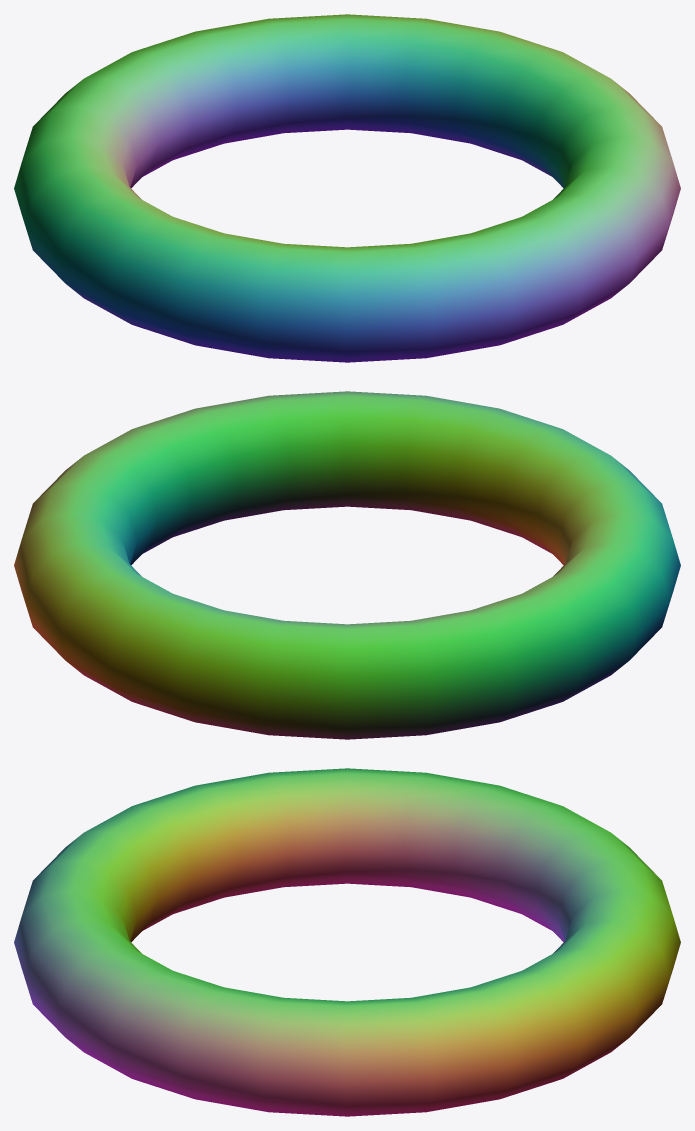
Rendered from zeometry-basic-shapes-torus_v1.glb.
3 views of the same model, one above another, from view 1: azimuth 30°, elevation 25°; view 2: azimuth 150°, elevation 25°; view 3: azimuth 270°, elevation 25° (orthographic).
Parts seen in each view (by area): view 1: Torus.001; view 2: Torus.001; view 3: Torus.001.
Part boxes in pixels (box(x1,y1,x2,y2)): Torus.001: box(14, 14, 680, 362); Torus.001: box(14, 391, 680, 739); Torus.001: box(14, 768, 680, 1116).
Bounding box in the file's own units: 0.5 × 0.0868 × 0.5.
